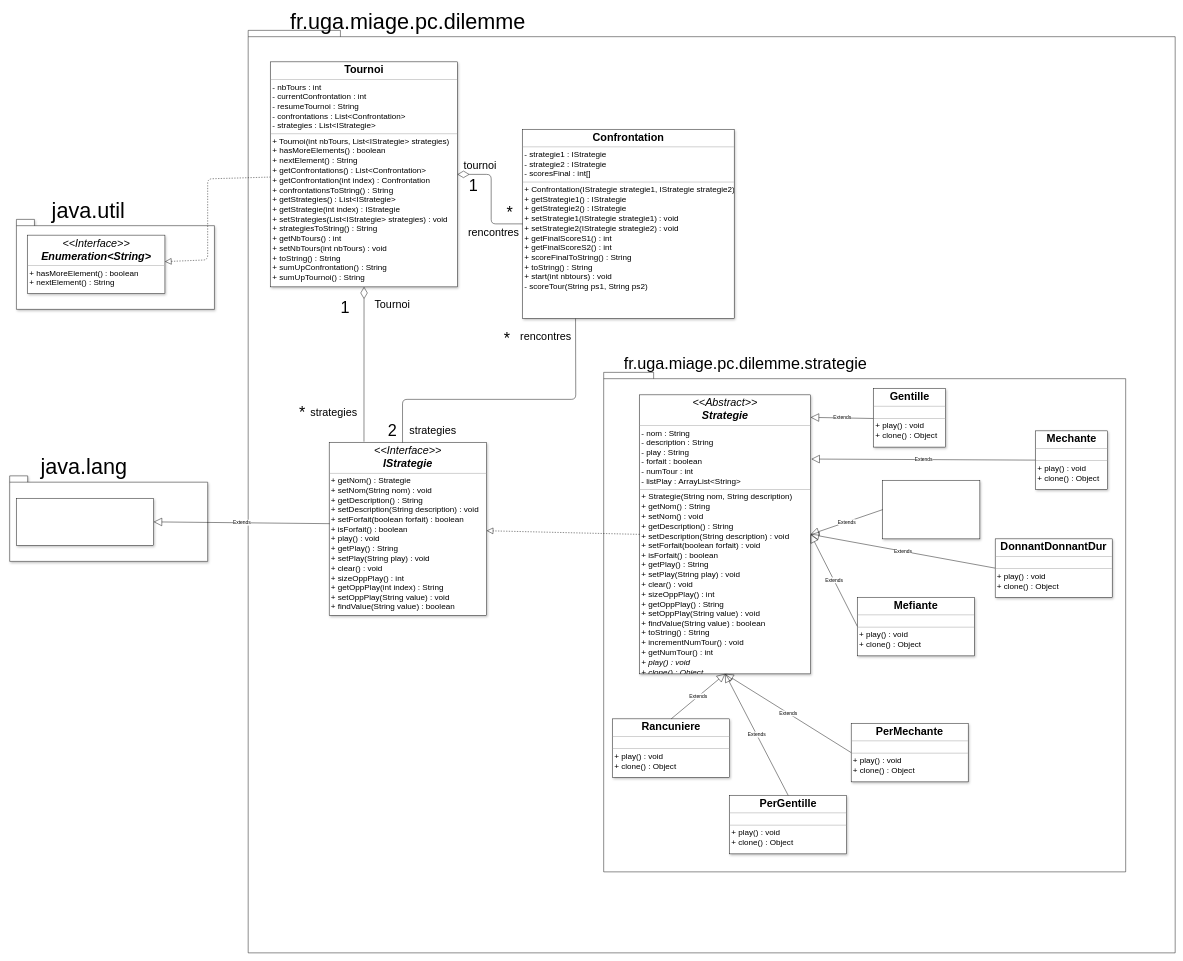
The diagram is 1183 pixels wide and 961 high, and some of its shapes have lost their labels. The shapes that lost their labels are listed below. From the top down, each one's centre as x and y in pixels, then its label:
At (85,522): "<<Interface>> Cloneable # clone() : Object".
At (931,510): "DonnantDonnant + play() : void + clone() : Object".
